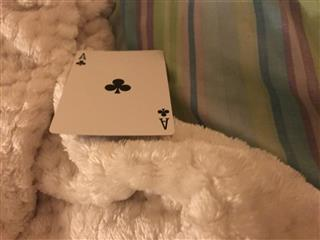AceOfClubs: (48, 50, 174, 135)
